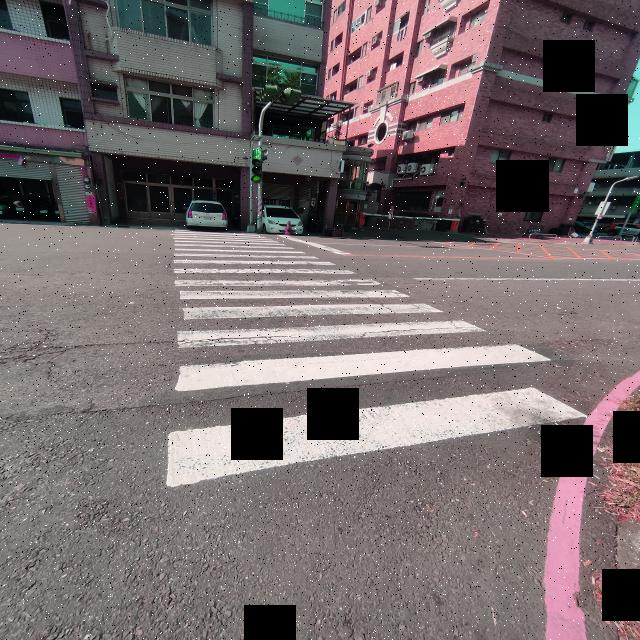zebra_crossing: (91, 0, 266, 475)
